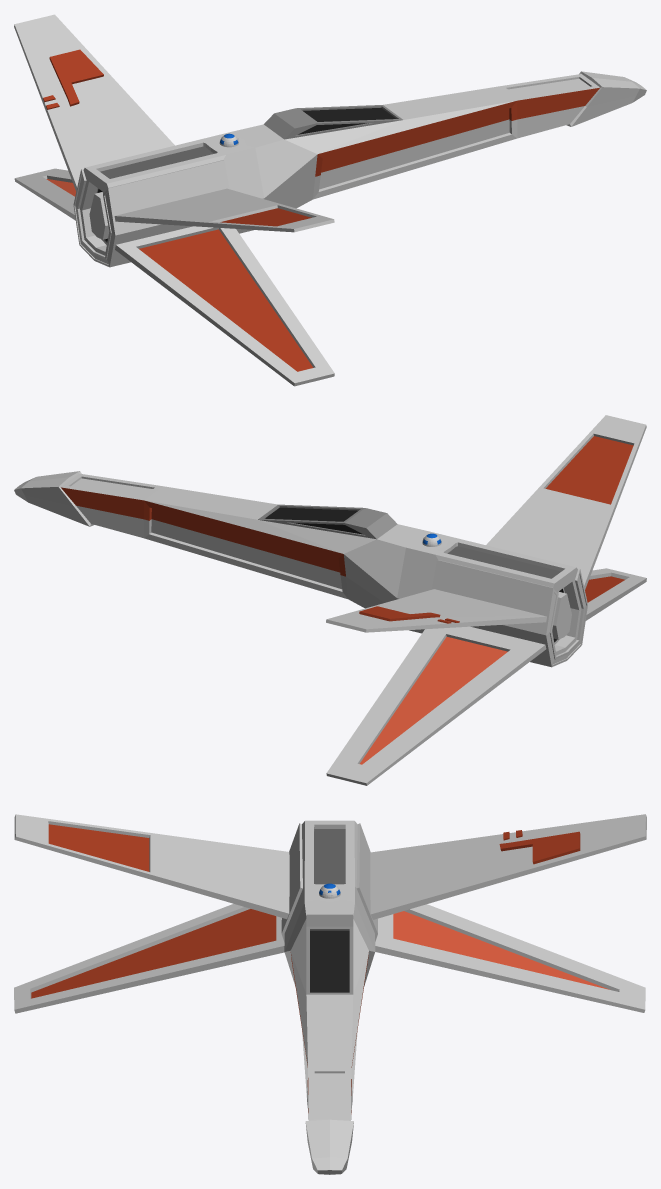
Rendered from Xwing.fbx.
3 renders of one model, top to bottom at view 1: azimuth 30°, elevation 25°; view 2: azimuth 150°, elevation 25°; view 3: azimuth 270°, elevation 25°, orthographic. The views are drawn at different scales.
Visible parts, largest first — view 1: Cube, Cube.010, Cube.001, Cube.009, Cube.004; view 2: Cube, Cube.004, Cube.009, Cube.001, Cube.010; view 3: Cube, Cube.001, Cube.009, Cube.010, Cube.004.
Part boxes in pixels (<box>): Cube: <box>73,71,646,267</box>; Cube.010: <box>115,226,334,386</box>; Cube.001: <box>14,14,174,191</box>; Cube.009: <box>114,188,334,232</box>; Cube.004: <box>14,168,75,220</box>; Cube: <box>14,471,587,667</box>; Cube.004: <box>326,626,546,785</box>; Cube.009: <box>486,415,646,589</box>; Cube.001: <box>326,589,546,632</box>; Cube.010: <box>585,568,646,620</box>; Cube: <box>281,820,377,1174</box>; Cube.001: <box>370,814,646,919</box>; Cube.009: <box>14,814,289,919</box>; Cube.010: <box>14,903,284,1013</box>; Cube.004: <box>375,904,645,1012</box>.
Size of the model in its own units: 207 by 56.82 by 184.
